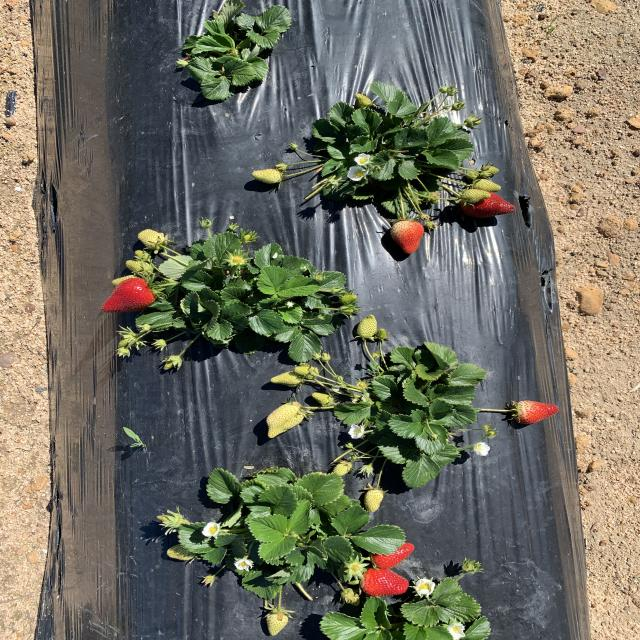unripe: (100, 278, 156, 312), (461, 190, 518, 217), (361, 569, 409, 596), (372, 540, 416, 569), (517, 400, 559, 425), (393, 222, 424, 254)
